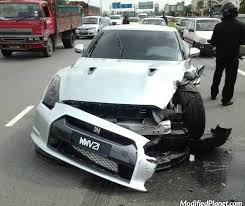Smashed: (118, 72, 200, 181)
